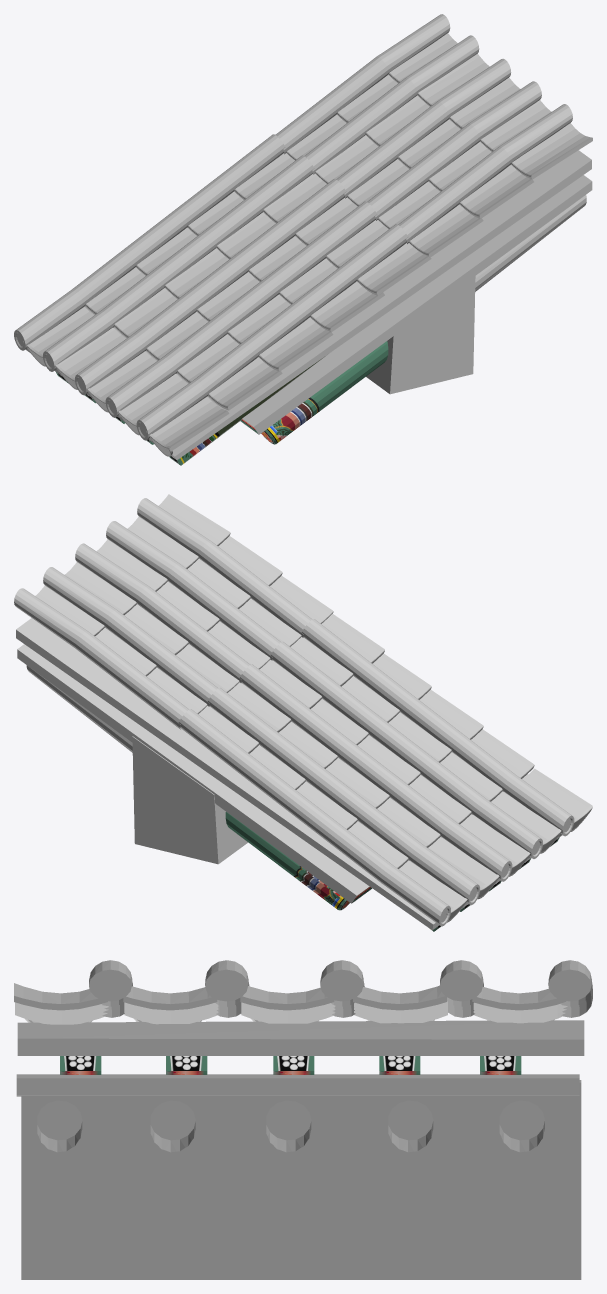
File: SM_Roof_25.fbx
3 renders of one model, top to bottom at view 1: azimuth 30°, elevation 25°; view 2: azimuth 150°, elevation 25°; view 3: azimuth 270°, elevation 25°, orthographic. The views are drawn at different scales.
Visible parts, largest first — view 1: SM_Roof_25_LOD0; view 2: SM_Roof_25_LOD0; view 3: SM_Roof_25_LOD0.
Part boxes in pixels (x1,y1,x2,y2): SM_Roof_25_LOD0: (14,14,592,465); SM_Roof_25_LOD0: (14,494,592,931); SM_Roof_25_LOD0: (14,960,592,1279).
Bounding box in the file's own units: 538 × 339 × 306.
